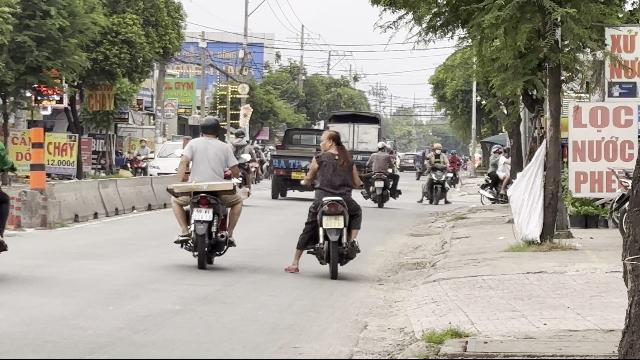helmet: (198, 115, 220, 137)
licenseplate: (192, 207, 212, 221), (323, 216, 343, 229)
motorcyclist: (164, 114, 246, 268), (292, 127, 364, 277)
nohelmet: (320, 130, 342, 152)
